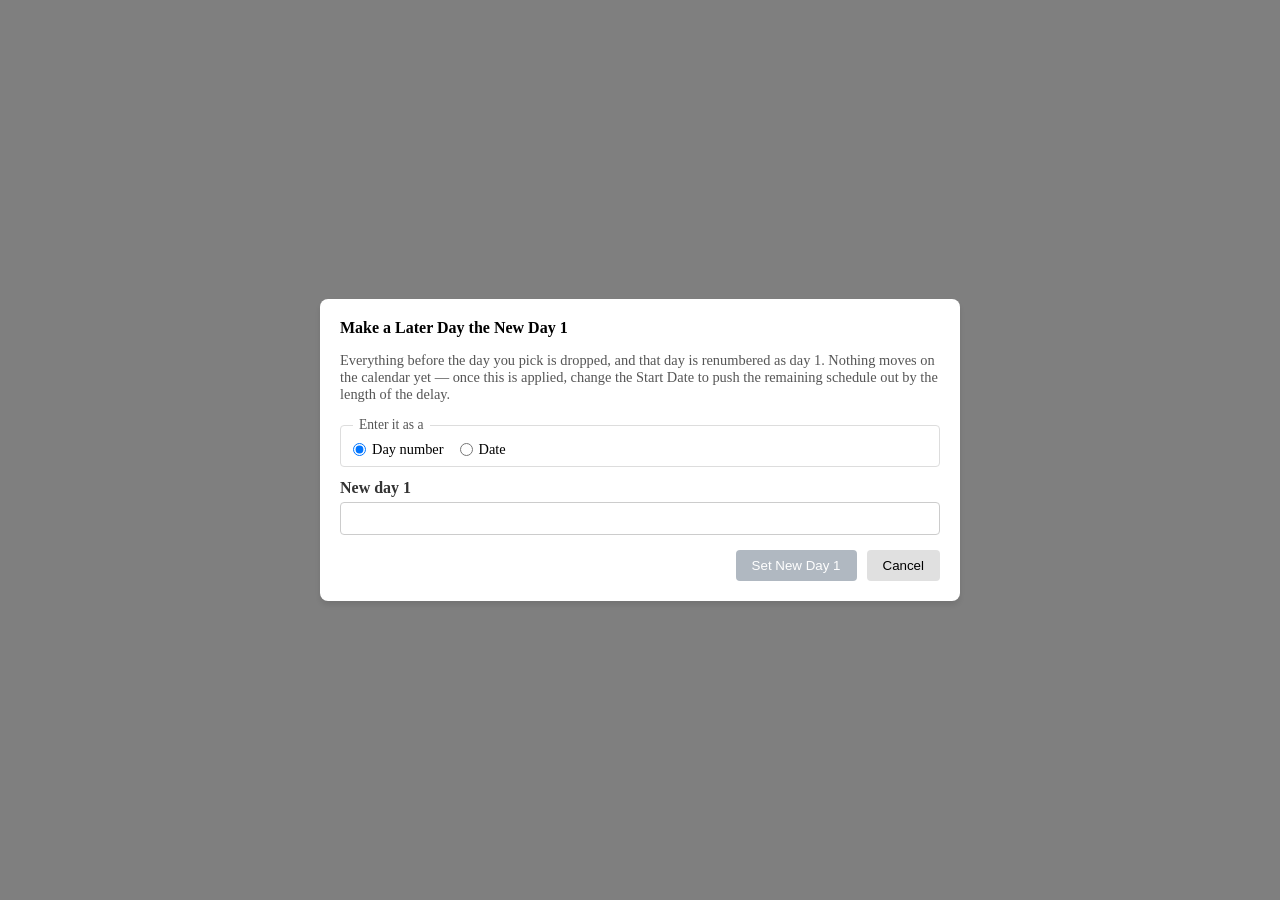
Test: RebaseStartDateModal › resolves a day number to the date it falls on
The width and height of the screenshot is (1280, 900).
Type "43" into the number field labelled "New day 1" at (640,519), box [340,502,940,535]
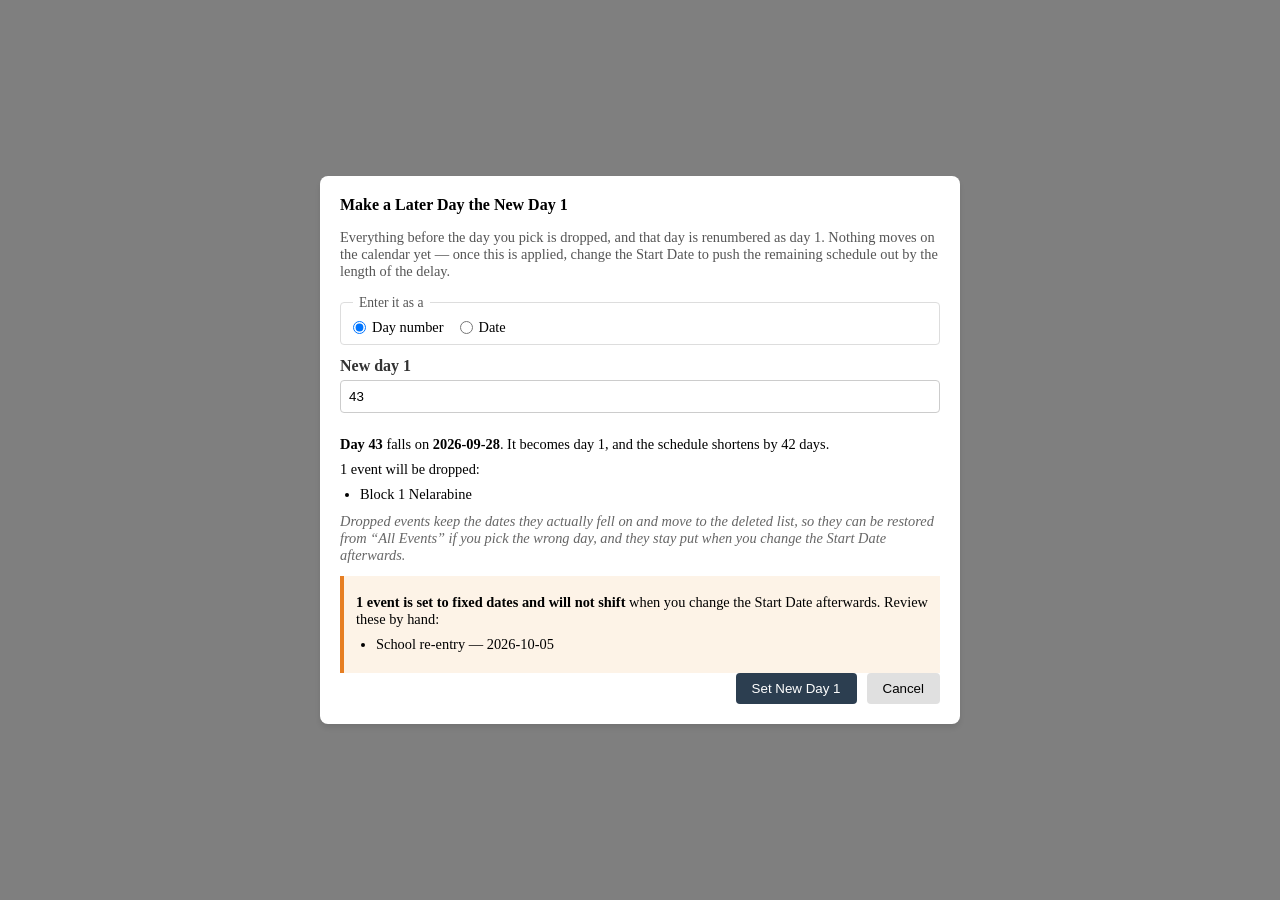
Check: the text "Day 43" is shown, box [340,436,383,452]
Check: the text "2026-09-28" is shown, box [433,436,500,452]
